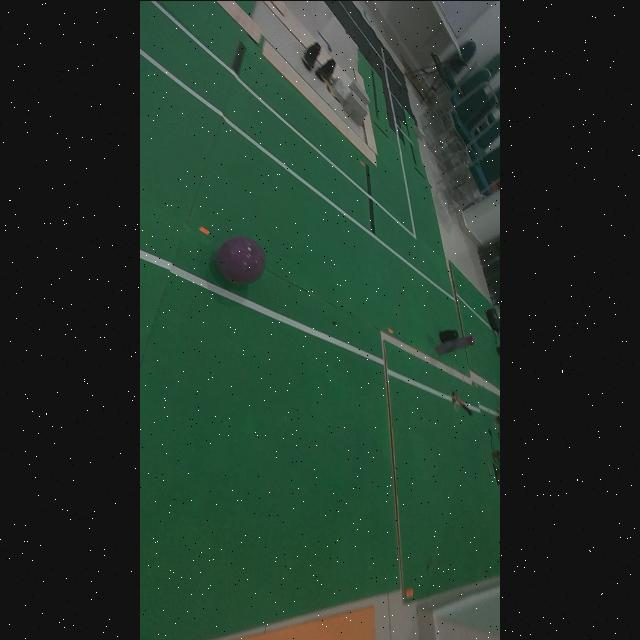P: (216, 236, 265, 284)
